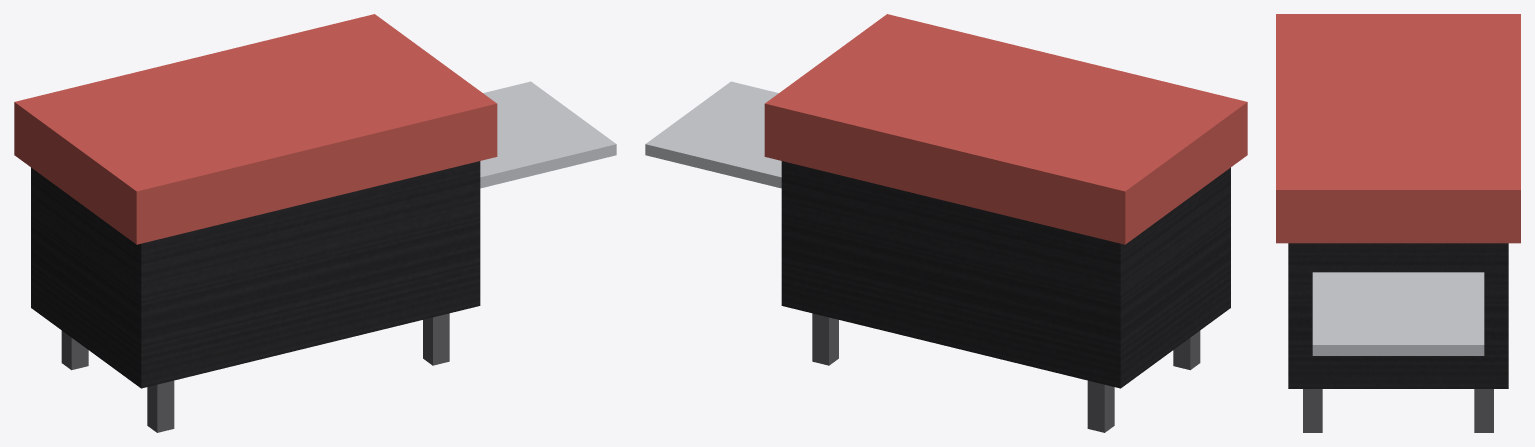
The model's file is grill.glb.
3 renders of one model, left to right at view 1: azimuth 30°, elevation 25°; view 2: azimuth 150°, elevation 25°; view 3: azimuth 270°, elevation 25°, orthographic.
Visible parts, largest first — view 1: lid, body, shelf, leg_ws, leg_es, leg_wn; view 2: lid, body, shelf, leg_wn, leg_en, leg_ws; view 3: lid, body, shelf, leg_es, leg_en.
Boxes of the visible parts, <box> form: lid: <box>14,14,497,244</box>; body: <box>31,161,480,388</box>; shelf: <box>480,81,616,188</box>; leg_ws: <box>147,380,174,432</box>; leg_es: <box>423,313,449,365</box>; leg_wn: <box>61,330,88,370</box>; lid: <box>764,14,1247,244</box>; body: <box>781,161,1230,388</box>; shelf: <box>645,81,781,188</box>; leg_wn: <box>1087,380,1114,432</box>; leg_en: <box>812,313,838,365</box>; leg_ws: <box>1173,330,1200,370</box>; lid: <box>1276,14,1520,243</box>; body: <box>1288,243,1508,388</box>; shelf: <box>1312,272,1484,355</box>; leg_es: <box>1303,389,1322,432</box>; leg_en: <box>1474,389,1493,432</box>.
Size of the model in its own units: 2.35 by 1.17 by 1.
4 materials, 1 textured.
